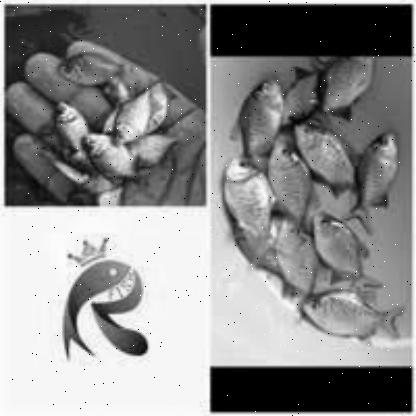ikan-pacu: (222, 156, 276, 258), (350, 127, 404, 220), (303, 291, 395, 341), (310, 210, 368, 282), (238, 76, 288, 158), (297, 116, 353, 186), (322, 56, 380, 116), (268, 143, 304, 213)
